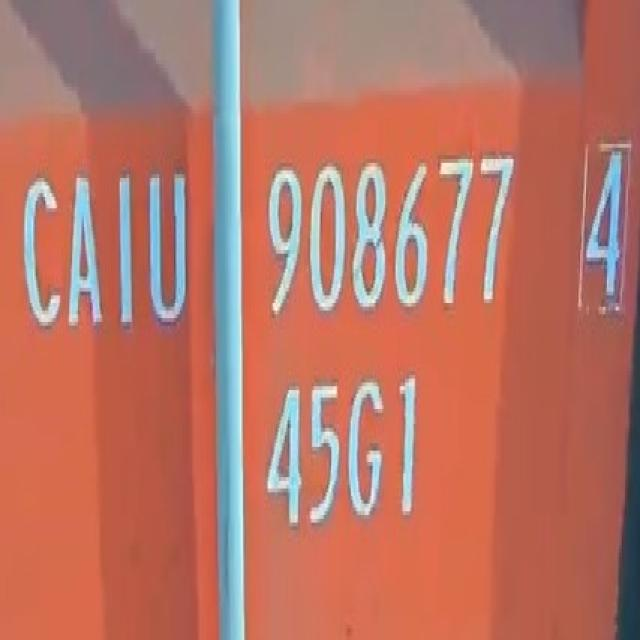dv: (576, 122, 633, 315)
owner: (16, 128, 197, 362)
serial: (253, 141, 530, 337)
size: (261, 360, 435, 548)
